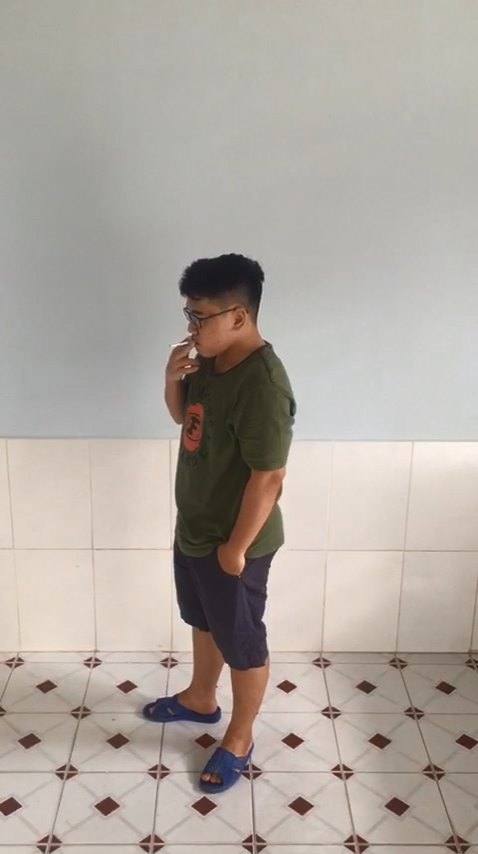cigarette: (168, 338, 198, 352)
person: (129, 234, 318, 812)
